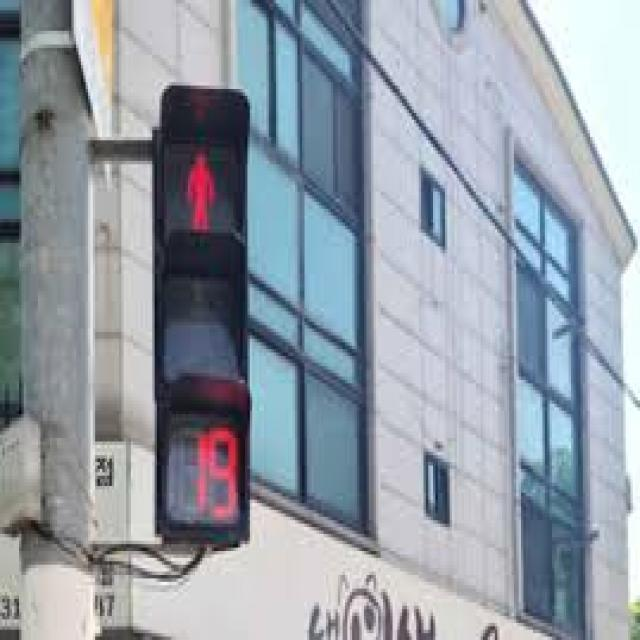Not go: (142, 97, 256, 554), (134, 110, 250, 256)
